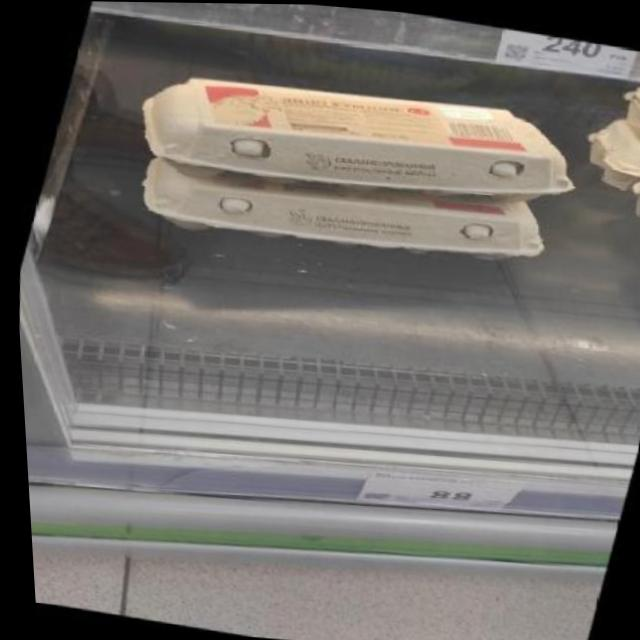Egg: (85, 38, 616, 239), (607, 72, 640, 147), (612, 159, 640, 232)
